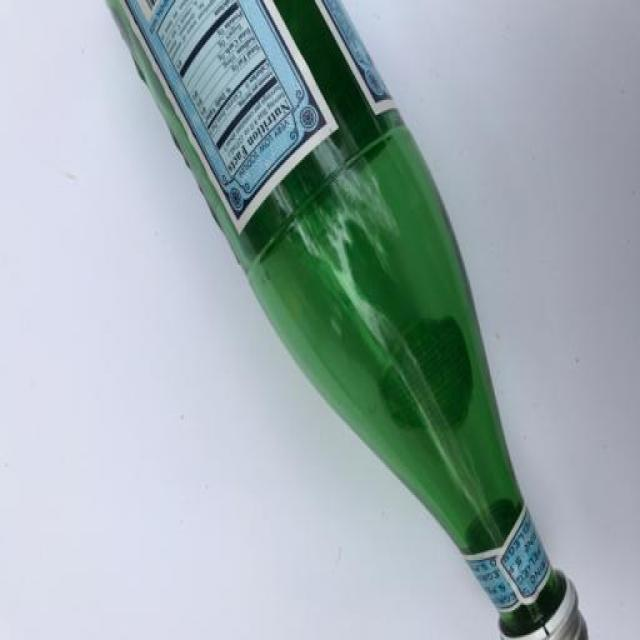glass: (102, 1, 621, 640)
